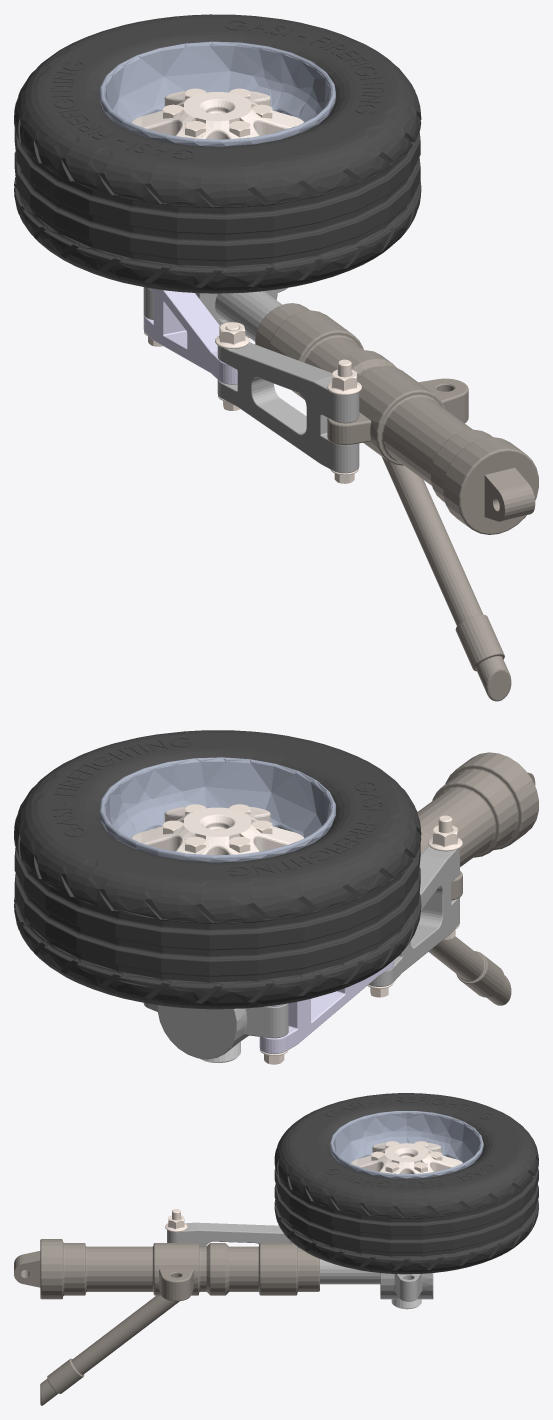
Rendered from left_main_gear.glb.
3 views of the same model, one above another, from view 1: azimuth 30°, elevation 25°; view 2: azimuth 150°, elevation 25°; view 3: azimuth 270°, elevation 25° (orthographic). The views are drawn at different scales.
Visible parts, largest first — view 1: NAUO58_8, NAUO58_22, NAUO58_9, NAUO58_18, NAUO58_7, NAUO58_17, NAUO58_21, NAUO58_20; view 2: NAUO58_8, NAUO58_9, NAUO58_22, NAUO58_20, NAUO58_7, NAUO58_18, NAUO58_17, NAUO58_16; view 3: NAUO58_8, NAUO58_22, NAUO58_9, NAUO58_18, NAUO58_7, NAUO58_20, NAUO58_21.
Boxes of the visible parts, x1=… form: NAUO58_8: x1=14, y1=14, x2=421, y2=293; NAUO58_22: x1=255, y1=303, x2=538, y2=701; NAUO58_9: x1=99, y1=41, x2=335, y2=146; NAUO58_18: x1=217, y1=342, x2=359, y2=473; NAUO58_7: x1=131, y1=91, x2=303, y2=139; NAUO58_17: x1=143, y1=288, x2=237, y2=384; NAUO58_21: x1=215, y1=291, x2=282, y2=341; NAUO58_20: x1=143, y1=287, x2=287, y2=337; NAUO58_8: x1=14, y1=730, x2=421, y2=1009; NAUO58_9: x1=99, y1=757, x2=335, y2=862; NAUO58_22: x1=417, y1=752, x2=538, y2=1005; NAUO58_20: x1=143, y1=1003, x2=288, y2=1059; NAUO58_7: x1=131, y1=807, x2=303, y2=855; NAUO58_18: x1=368, y1=846, x2=459, y2=986; NAUO58_17: x1=259, y1=960, x2=393, y2=1054; NAUO58_16: x1=428, y1=825, x2=462, y2=851; NAUO58_8: x1=274, y1=1093, x2=538, y2=1274; NAUO58_22: x1=14, y1=1239, x2=319, y2=1405; NAUO58_9: x1=329, y1=1111, x2=483, y2=1178; NAUO58_18: x1=167, y1=1222, x2=292, y2=1246; NAUO58_7: x1=350, y1=1143, x2=462, y2=1173; NAUO58_20: x1=380, y1=1273, x2=433, y2=1301; NAUO58_21: x1=320, y1=1259, x2=380, y2=1284.
Size of the model in its own units: 0.35 by 0.3841 by 0.6949.
